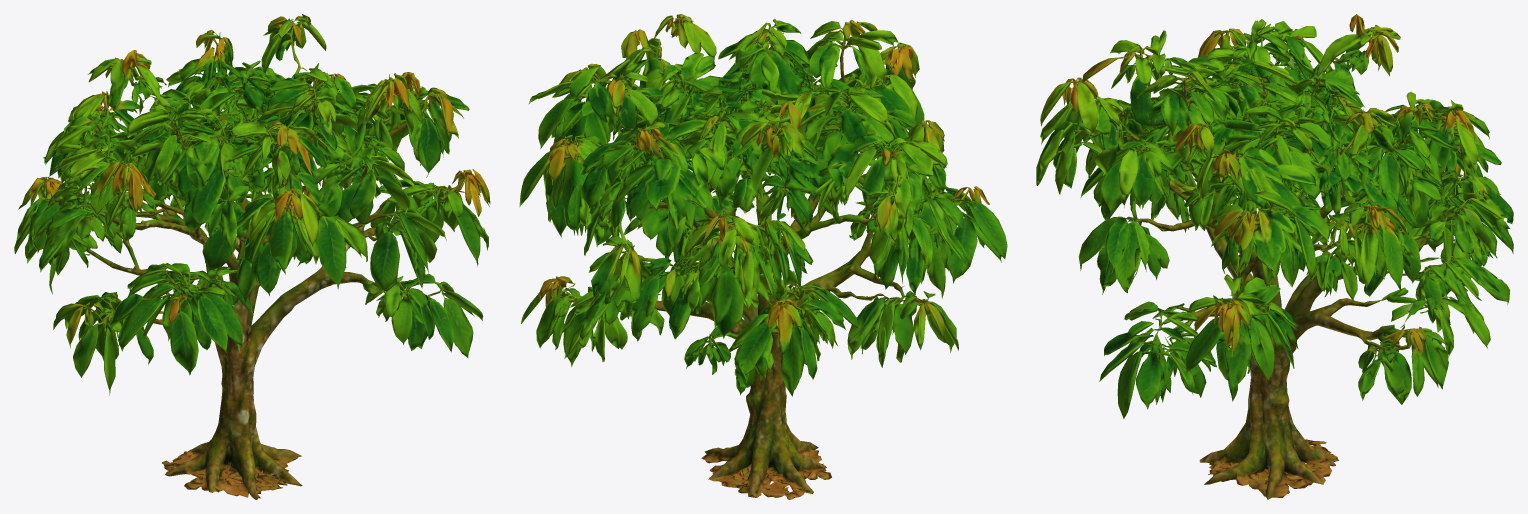
File: cacao-tree.glb
3 views of the same model, side by side, from view 1: azimuth 30°, elevation 25°; view 2: azimuth 150°, elevation 25°; view 3: azimuth 270°, elevation 25° (orthographic). The views are drawn at different scales.
Size of the model in its own units: 1.89 by 1.71 by 1.75.
Materials: 1 (1 with a texture image).
